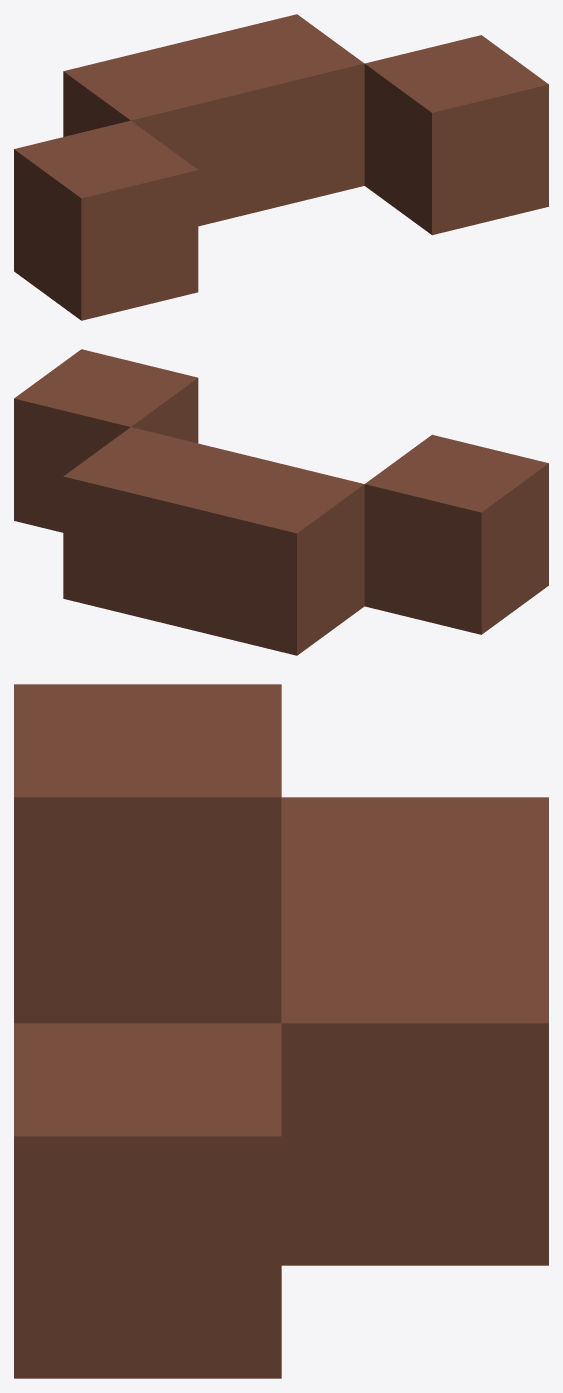
File: eProjectile6.obj
3 renders of one model, top to bottom at view 1: azimuth 30°, elevation 25°; view 2: azimuth 150°, elevation 25°; view 3: azimuth 270°, elevation 25°, orthographic. The views are drawn at different scales.
Size of the model in its own units: 4 by 1 by 2.
1 material, 1 textured.
